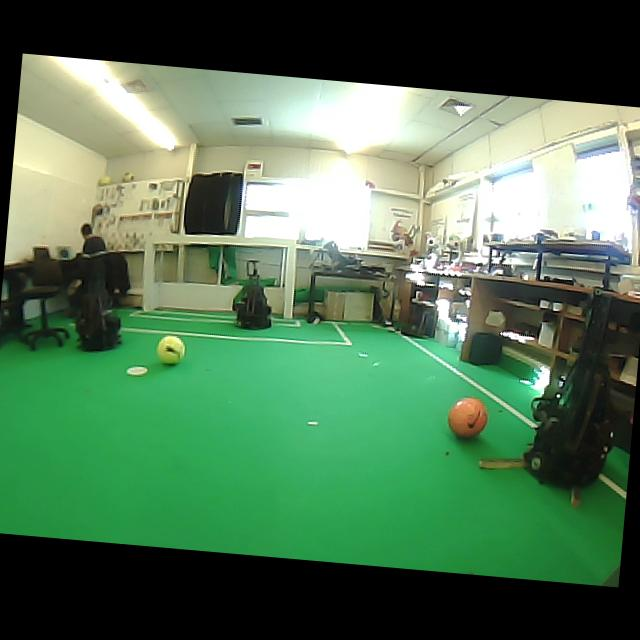ball: (448, 396, 487, 437), (156, 335, 184, 363), (97, 174, 112, 185), (121, 171, 133, 181)
goal: (282, 240, 296, 318), (142, 241, 154, 310)
robot: (524, 292, 611, 486), (75, 255, 121, 350), (234, 259, 271, 328)
